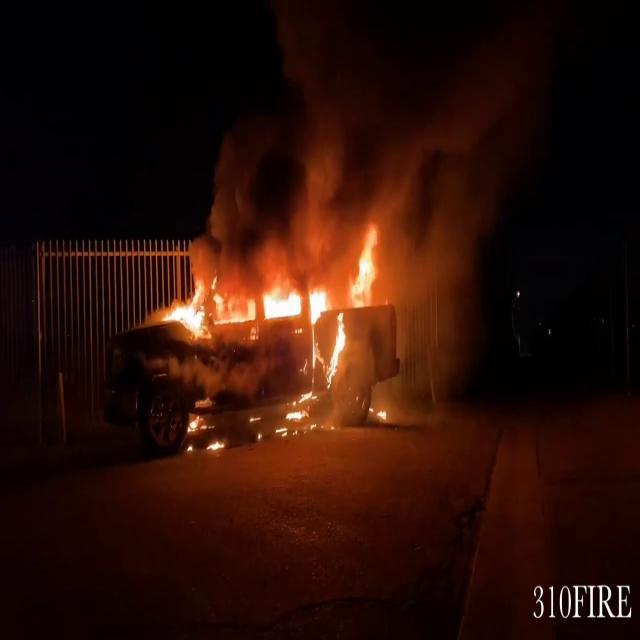Fire: (164, 274, 340, 352), (332, 218, 388, 374)
Smoke: (200, 1, 562, 295)
